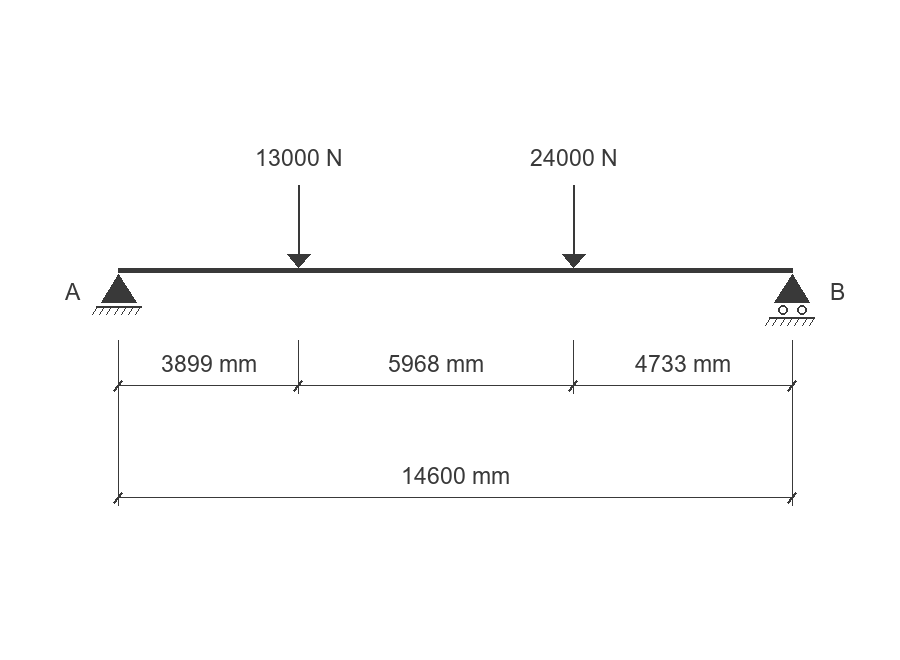pin_support: (92, 274, 142, 315)
point_load: (287, 185, 311, 268), (562, 185, 586, 268)
roller_support: (765, 274, 815, 326)
